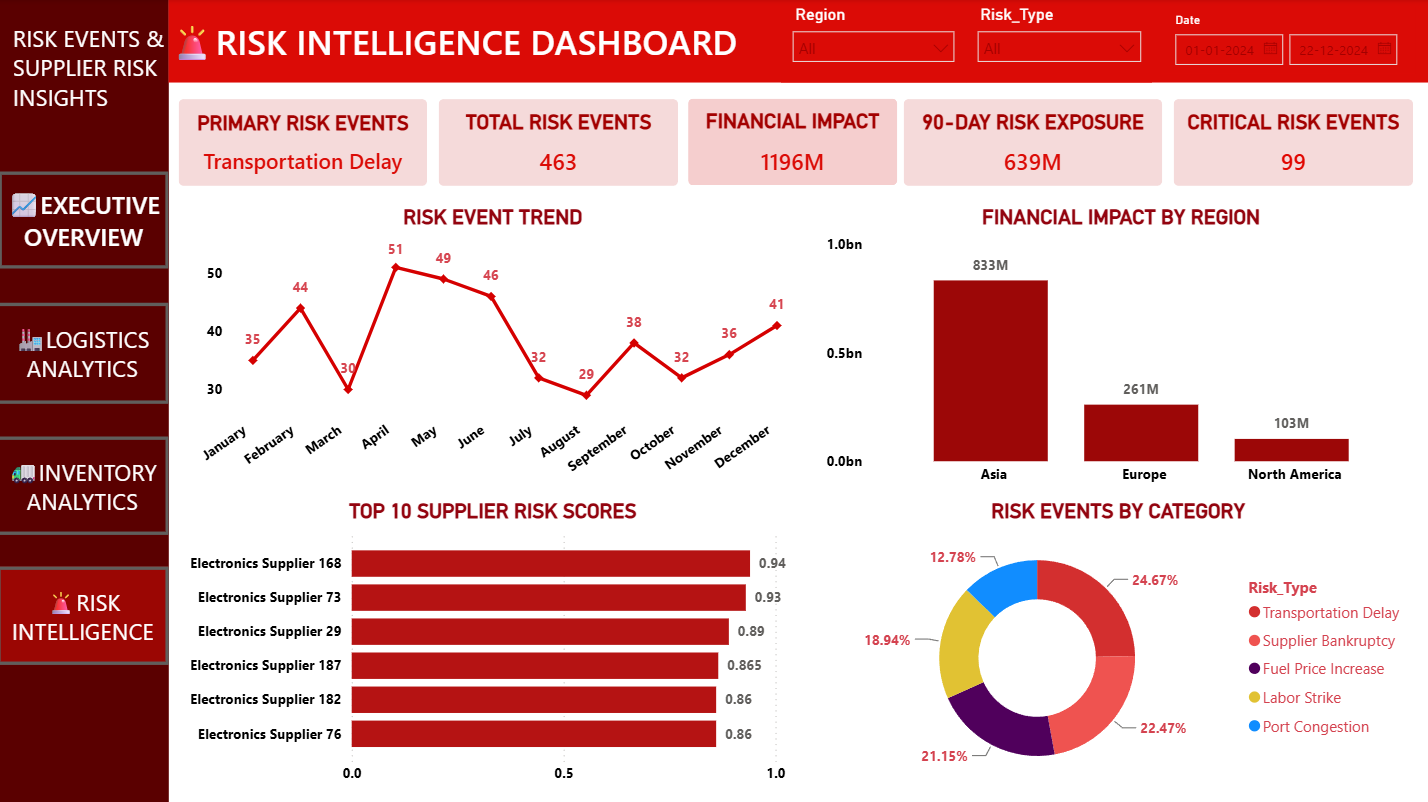

This screenshot's page, from the dashboard's own definition file:
{"tool":"powerbi","page":{"name":"Risk Intelligence","canvas":[1280,720],"ordinal":3},"visuals":[{"type":"shape","box":[1.2,0,152.8,720.1],"z":0},{"type":"actionButton","box":[2.4,154,151.6,86.5],"z":1000},{"type":"actionButton","box":[0,270,154,90],"z":2000},{"type":"actionButton","box":[0,389.6,154,87.6],"z":3000},{"type":"actionButton","box":[1.2,505.7,152.8,87.6],"z":4000},{"type":"shape","box":[154,0,1126.3,74.6],"z":5000},{"type":"cardVisual","fields":{"Data":["FACT_RISK_EVENTS.Critical Risk Events"]},"box":[1031.5,72.2,248.7,111.3],"z":6000},{"type":"cardVisual","fields":{"Data":["FACT_RISK_EVENTS.Primary  Risk Type"]},"box":[145.7,72.2,255.8,111.3],"z":7000},{"type":"cardVisual","fields":{"Data":["FACT_RISK_EVENTS.TOTAL FINANCIAL IMPACT"]},"box":[604,77,210.8,101.9],"z":8000},{"type":"cardVisual","fields":{"Data":["FACT_RISK_EVENTS.TOTAL RISK EVENTS"]},"box":[377.8,72.2,247.5,111.3],"z":9000},{"type":"slicer","fields":{"Values":["FACT_RISK_EVENTS.Region"]},"box":[698.7,0,164.6,74.6],"z":10000},{"type":"slicer","fields":{"Values":["FACT_RISK_EVENTS.Risk_Type"]},"box":[863.4,0,165.8,74.6],"z":11000},{"type":"slicer","fields":{"Values":["DIM_DATE.Date"]},"box":[1037.5,7.1,226.2,60.4],"z":12000},{"type":"columnChart","title":"FINANCIAL IMPACT BY REGION","fields":{"Category":["DIM_SUPPLIERS.Region"],"Y":["Sum(FACT_RISK_EVENTS.Financial_Impact)"]},"box":[734.3,183.6,529.4,258.2],"z":13000},{"type":"donutChart","title":"RISK EVENTS BY CATEGORY","fields":{"Category":["DIM_RISK_CATEGORY.Risk_Type"],"Y":["CountNonNull(FACT_RISK_EVENTS.Risk_Event_ID)"]},"box":[734.3,445.3,529.4,262.9],"z":14000},{"type":"lineChart","title":"RISK EVENT TREND","fields":{"Y":["CountNonNull(FACT_RISK_EVENTS.Risk_Event_ID)"],"Category":["DIM_DATE.Month"]},"box":[167,183.6,550.7,258.2],"z":15000},{"type":"clusteredBarChart","title":"TOP 10 SUPPLIER RISK SCORES ","fields":{"Category":["DIM_SUPPLIERS.SUPPLIER_NAME"],"Y":["FACT_RISK_EVENTS.Avg Risk Score"]},"box":[167,445.3,550.7,262.9],"z":16000},{"type":"cardVisual","fields":{"Data":["FACT_RISK_EVENTS.90-DAY RISK EXPOSURE"]},"box":[791.1,72.2,264.1,111.3],"z":17000}]}

Visuals, with their boxes in screenshot pixels (x1, y1, x2, y2), scaled from the page's 1280x720 canvas onto the 1428x802 screenshot:
shape: l=1, t=0, r=172, b=801
actionButton: l=3, t=172, r=172, b=268
actionButton: l=0, t=301, r=172, b=401
actionButton: l=0, t=434, r=172, b=532
actionButton: l=1, t=563, r=172, b=661
shape: l=172, t=0, r=1427, b=83
cardVisual - FACT_RISK_EVENTS.Critical Risk Events: l=1151, t=80, r=1427, b=204
cardVisual - FACT_RISK_EVENTS.Primary  Risk Type: l=163, t=80, r=448, b=204
cardVisual - FACT_RISK_EVENTS.TOTAL FINANCIAL IMPACT: l=674, t=86, r=909, b=199
cardVisual - FACT_RISK_EVENTS.TOTAL RISK EVENTS: l=421, t=80, r=698, b=204
slicer - FACT_RISK_EVENTS.Region: l=779, t=0, r=963, b=83
slicer - FACT_RISK_EVENTS.Risk_Type: l=963, t=0, r=1148, b=83
slicer - DIM_DATE.Date: l=1157, t=8, r=1410, b=75
"FINANCIAL IMPACT BY REGION" columnChart: l=819, t=205, r=1410, b=492
"RISK EVENTS BY CATEGORY" donutChart: l=819, t=496, r=1410, b=789
"RISK EVENT TREND" lineChart: l=186, t=205, r=801, b=492
"TOP 10 SUPPLIER RISK SCORES " clusteredBarChart: l=186, t=496, r=801, b=789
cardVisual - FACT_RISK_EVENTS.90-DAY RISK EXPOSURE: l=883, t=80, r=1177, b=204
